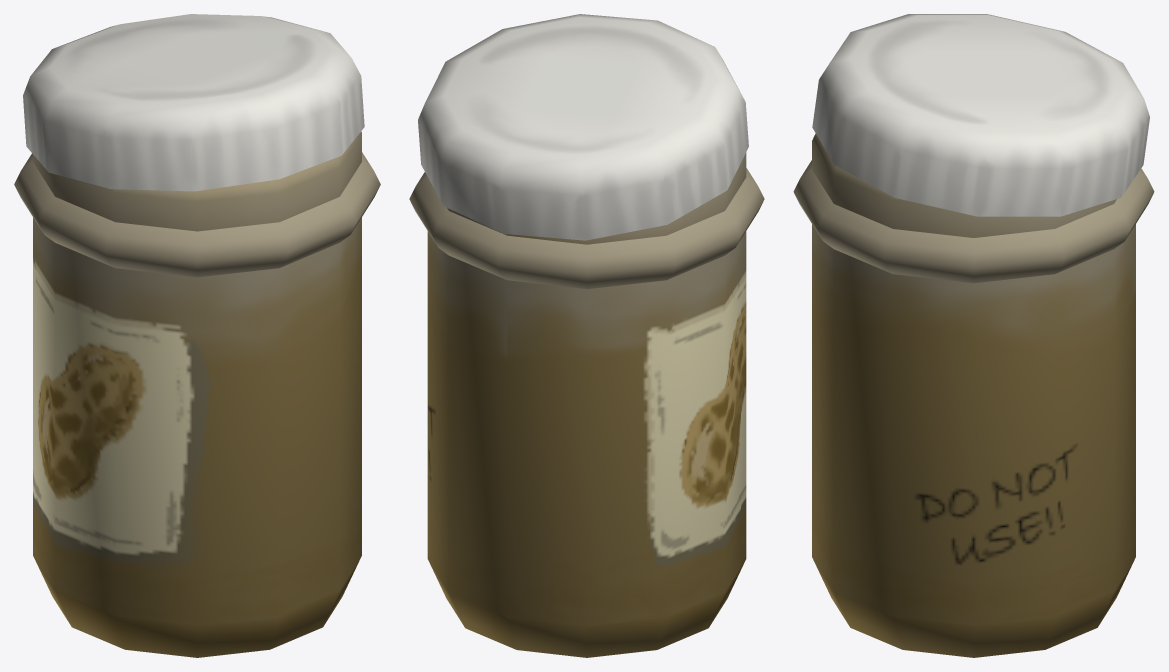
The model's file is Jar 2.fbx.
The picture shows the model from 3 angles, left to right: view 1: azimuth 30°, elevation 25°; view 2: azimuth 150°, elevation 25°; view 3: azimuth 270°, elevation 25°; orthographic projection. The views are drawn at different scales.
Parts seen in each view (by area): view 1: Cylinder, Cylinder.001; view 2: Cylinder, Cylinder.001; view 3: Cylinder, Cylinder.001.
Part boxes in pixels (x1=…): Cylinder: x1=14, y1=131, x2=380, y2=657; Cylinder.001: x1=23, y1=14, x2=364, y2=191; Cylinder: x1=409, y1=152, x2=764, y2=657; Cylinder.001: x1=418, y1=14, x2=748, y2=240; Cylinder: x1=793, y1=133, x2=1154, y2=657; Cylinder.001: x1=812, y1=14, x2=1149, y2=216.
Bounding box in the file's own units: 15.19 × 25.81 × 15.19.
1 material, 1 textured.
